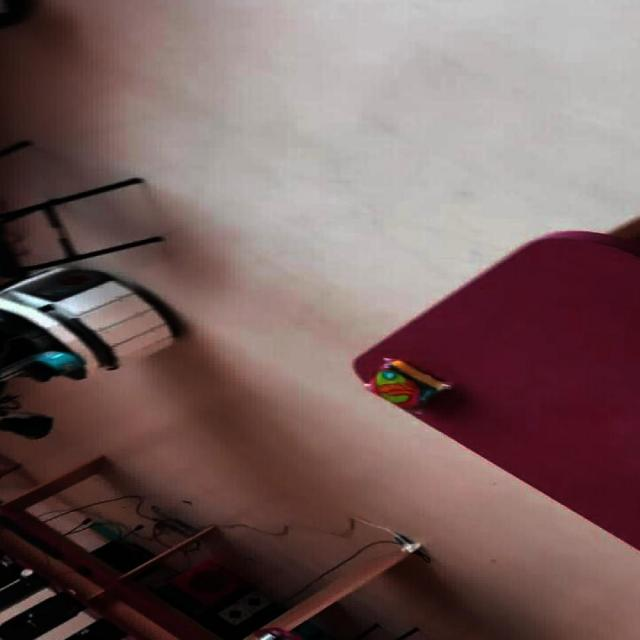Sponge: (352, 229, 640, 565), (368, 356, 455, 414)
